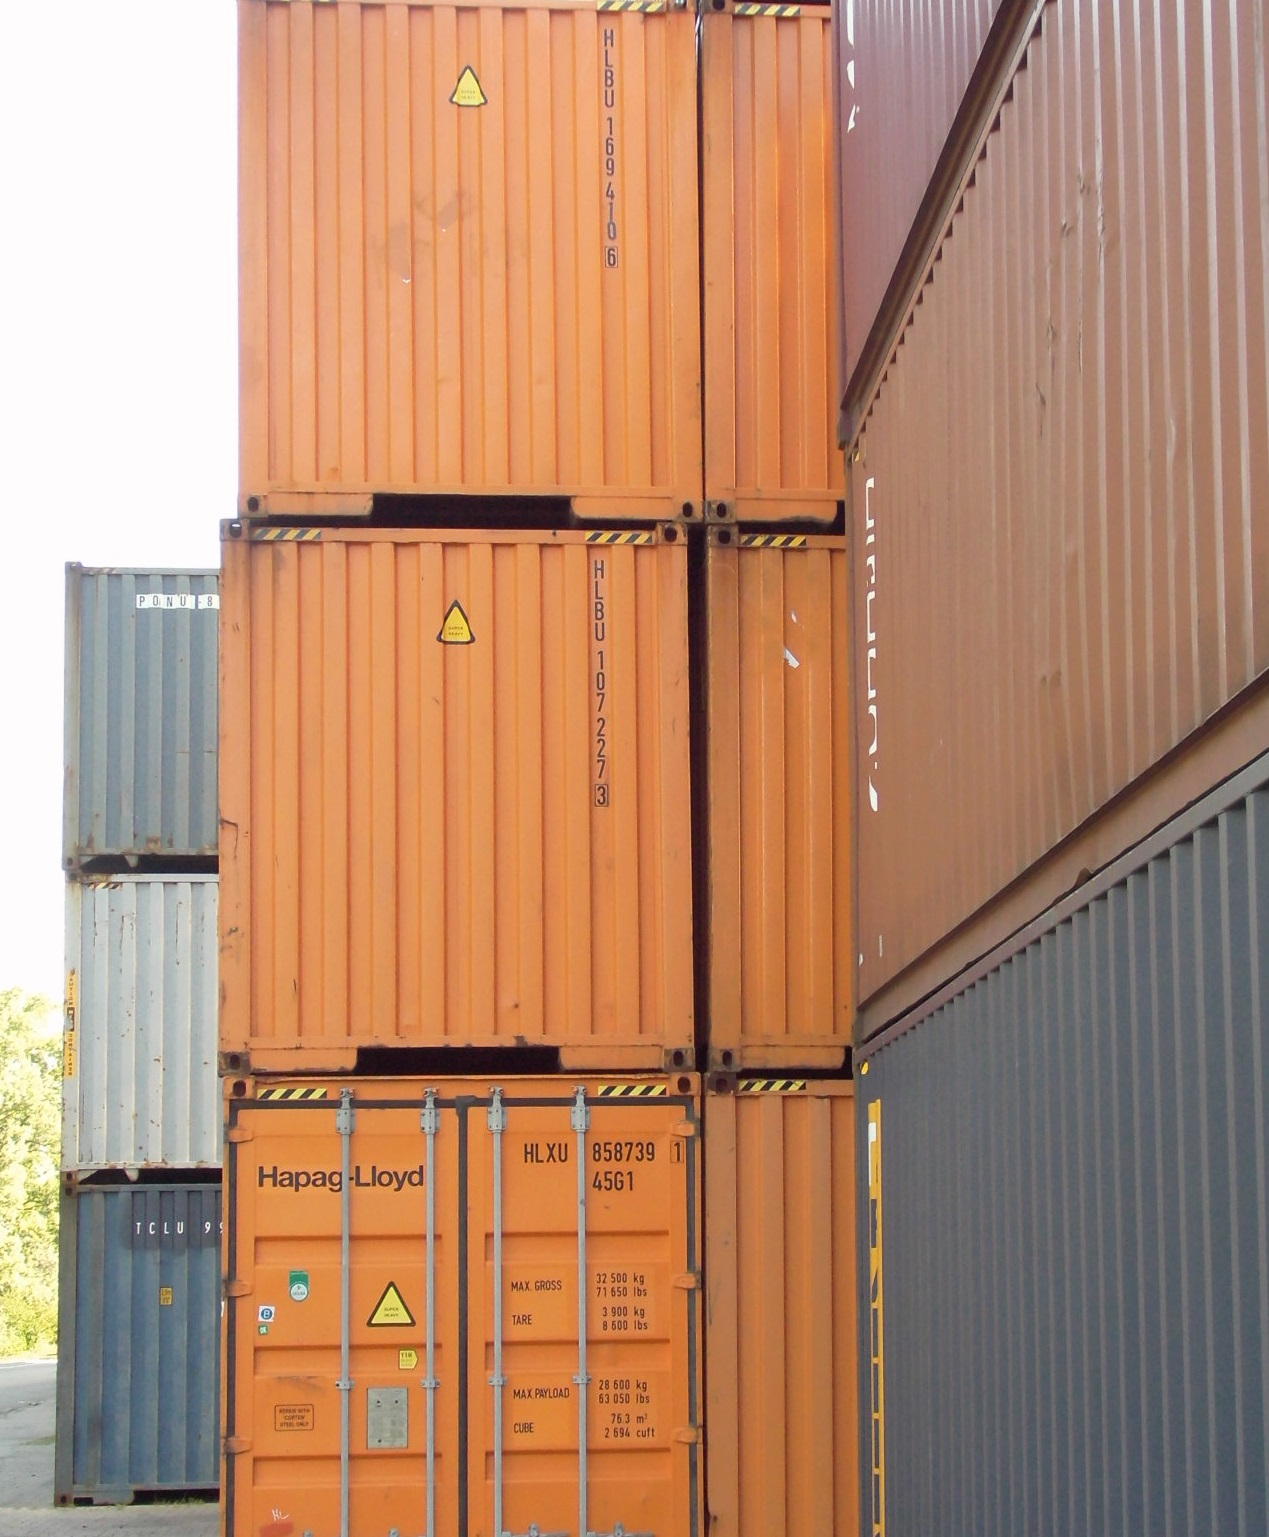container_door: (223, 1068, 693, 1531)
container_no_door: (222, 518, 695, 1071), (230, 1, 700, 516), (57, 1183, 212, 1503), (66, 558, 218, 874), (65, 874, 209, 1180)
